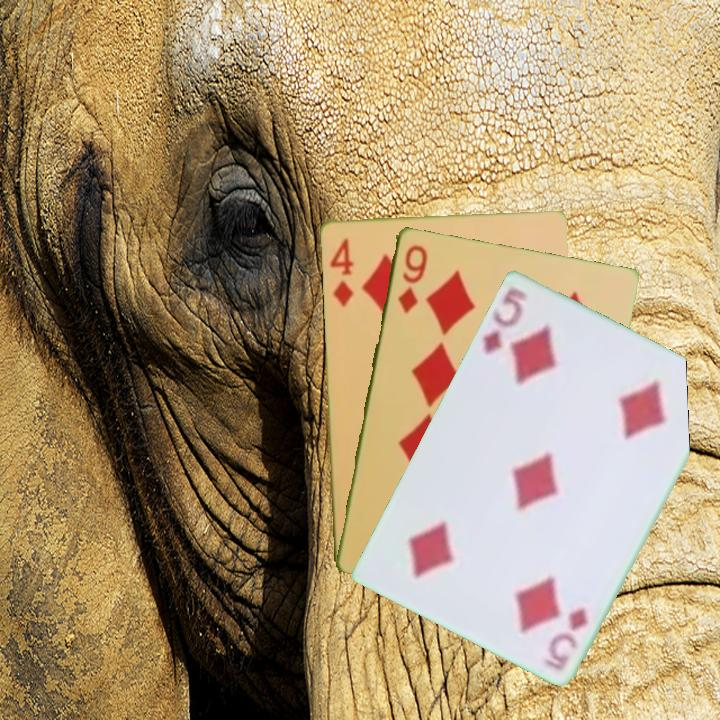4d: (326, 233, 356, 309)
5d: (479, 283, 531, 358), (550, 603, 591, 660)
9d: (393, 241, 430, 316)
